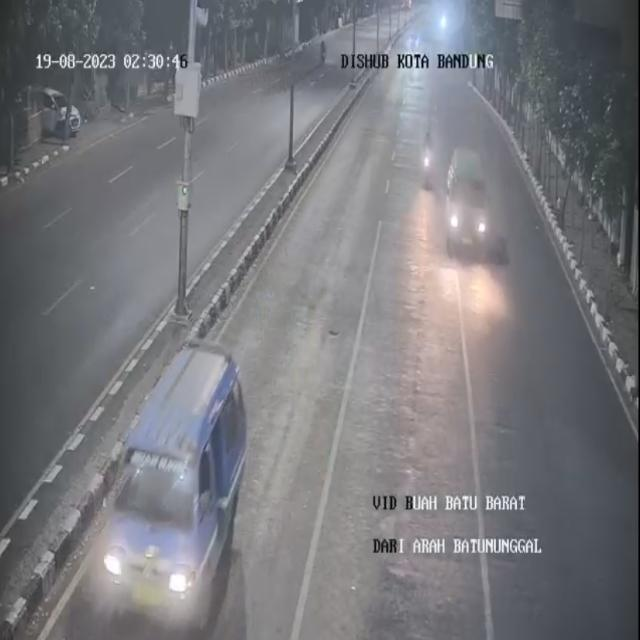bus: (448, 148, 509, 262)
cars: (103, 342, 246, 623)
motorcycle: (422, 121, 435, 190)
